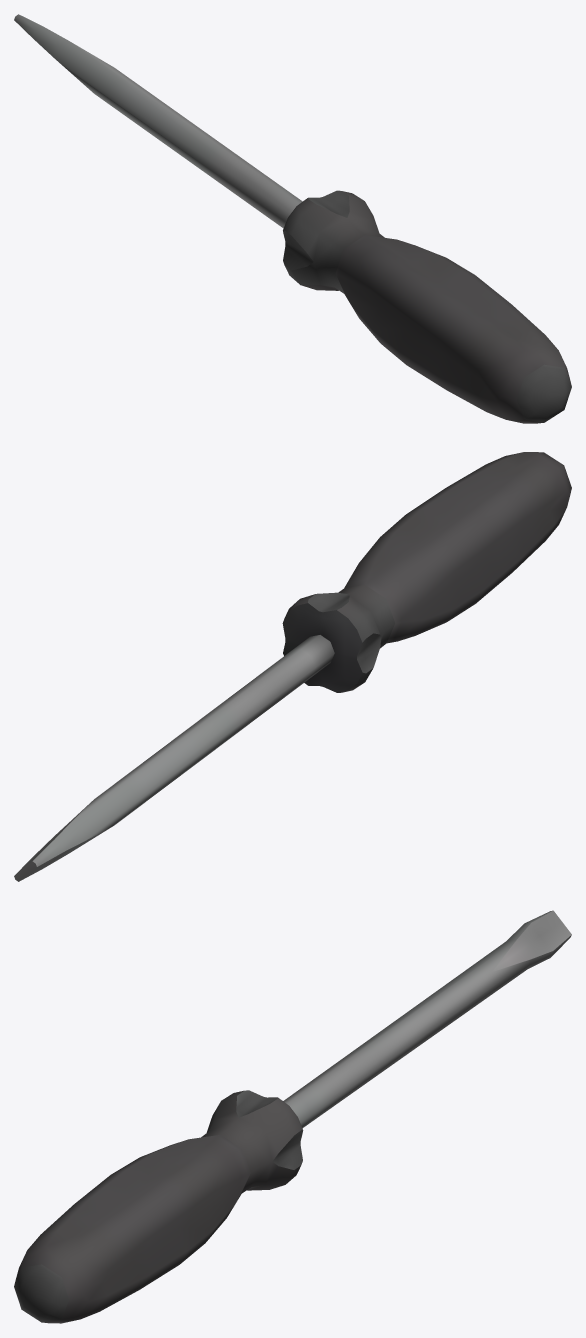
The model's file is SM_Screw_1_c01045.glb.
3 views of the same model, one above another, from view 1: azimuth 30°, elevation 25°; view 2: azimuth 150°, elevation 25°; view 3: azimuth 330°, elevation 25° (orthographic).
Bounding box in the file's own units: 0.0267 × 0.0267 × 0.2806.
1 material, 1 textured.
